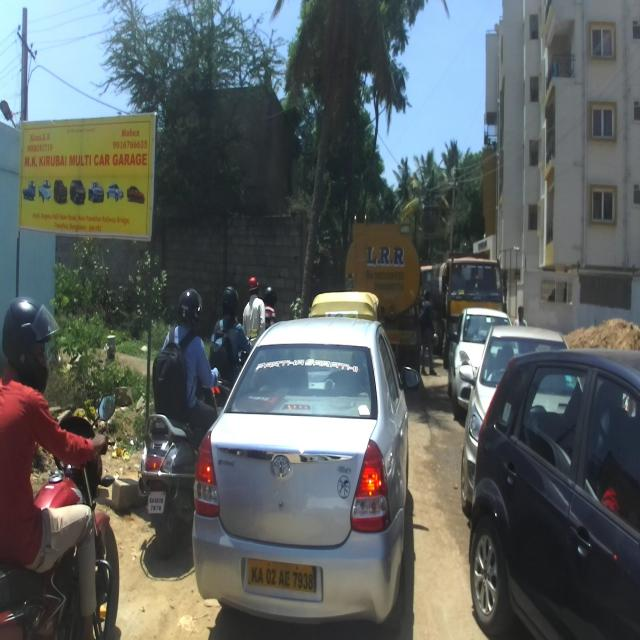Car_Maruti-Suzuki: (447, 307, 514, 422)
Car_Toyota: (190, 316, 422, 627)
motorcycle_Honda: (0, 392, 120, 639)
scooter: (137, 374, 220, 560)
